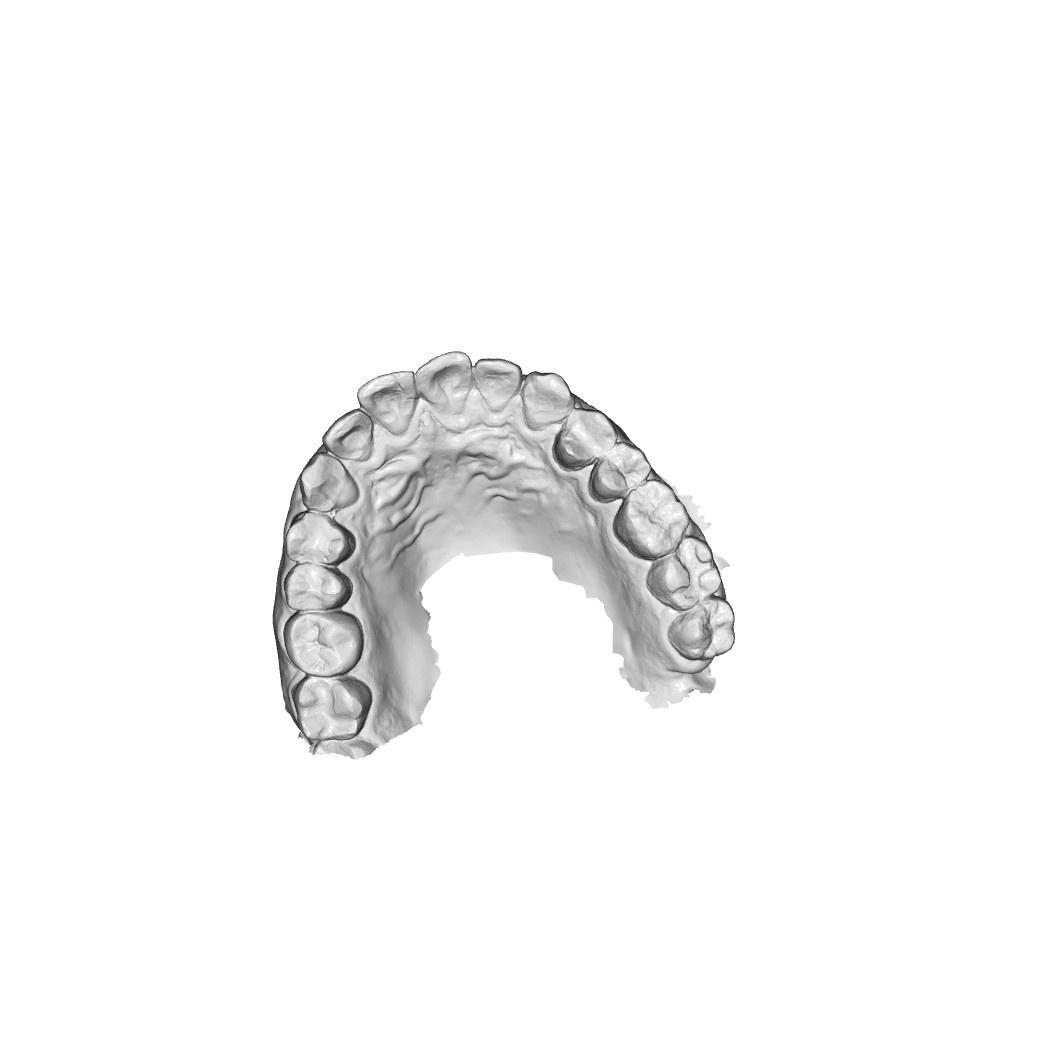canine: (296, 449, 363, 516), (523, 373, 574, 427)
incisor: (420, 350, 468, 409), (360, 372, 410, 424), (475, 355, 523, 407), (325, 411, 374, 457)
molar: (293, 674, 374, 746), (284, 613, 361, 675), (654, 542, 722, 604), (625, 488, 685, 547), (679, 601, 737, 661)
premolar: (288, 512, 354, 561), (561, 409, 616, 467), (594, 445, 649, 495), (284, 564, 341, 609)
